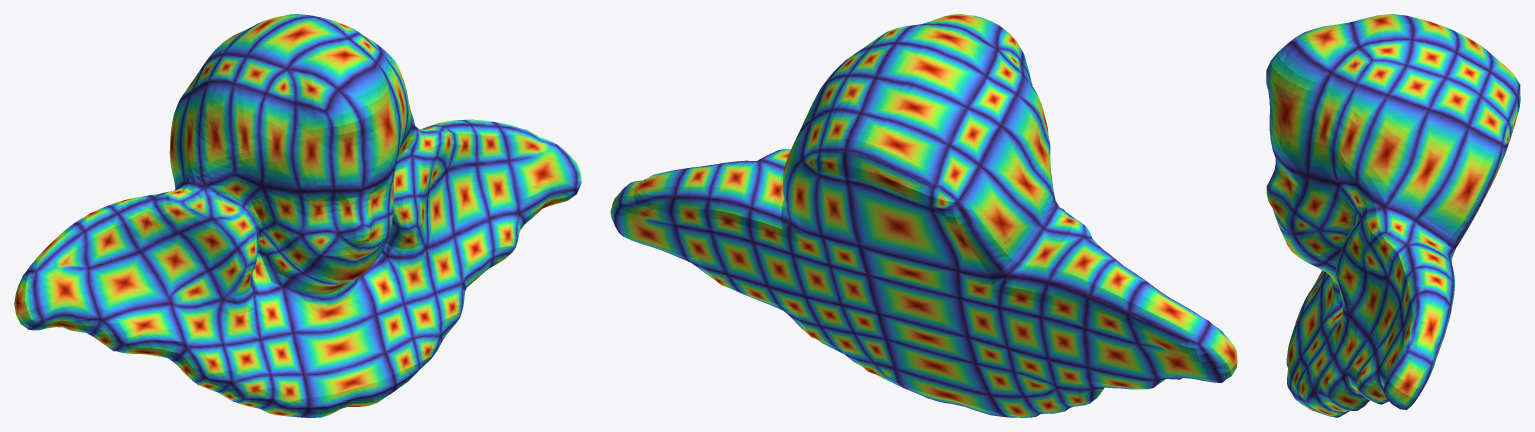
The model's file is gen1.glb.
3 renders of one model, left to right at view 1: azimuth 30°, elevation 25°; view 2: azimuth 150°, elevation 25°; view 3: azimuth 270°, elevation 25°, orthographic. The views are drawn at different scales.
Parts seen in each view (by area): view 1: Node; view 2: Node; view 3: Node.
Boxes of the visible parts, x1,y1,x2,y2 form: Node: (14,14,581,417); Node: (610,14,1237,417); Node: (1266,14,1520,417).
Bounding box in the file's own units: 67.98 × 41.37 × 25.78.
1 material, 1 textured.
